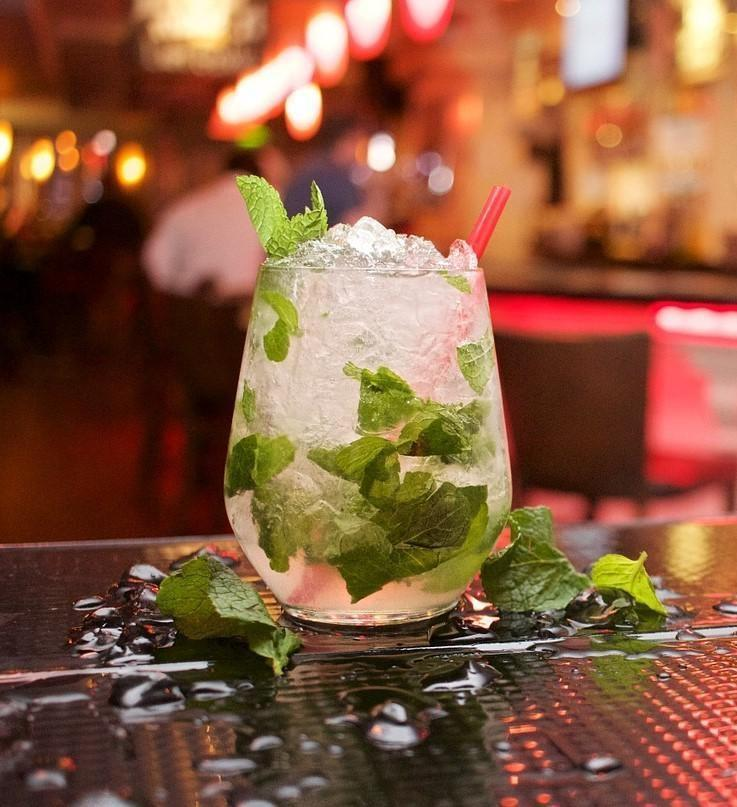glass-normal: (220, 254, 516, 641)
